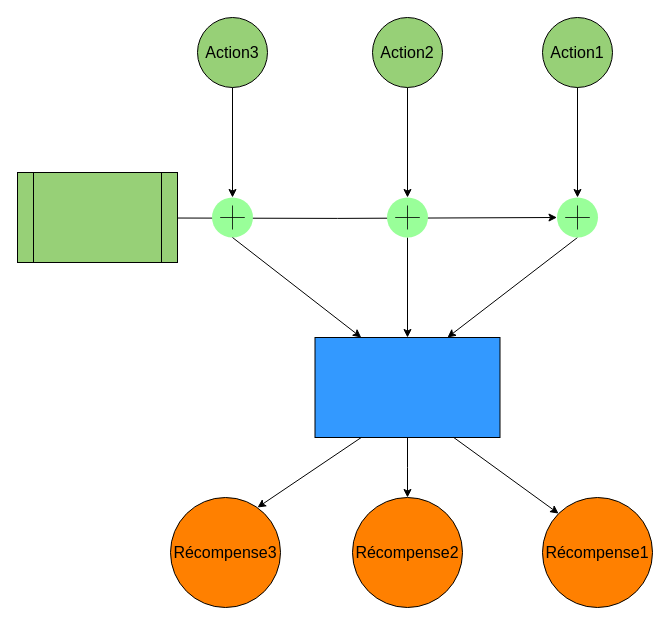
The diagram is 670 pixels wide and 625 high, and some of its shapes have lost their labels. Each missing label, with the centre of its shape:
"Perceptron multicouche" belongs at (407,387).
"Vecteur d'état" belongs at (97,217).
